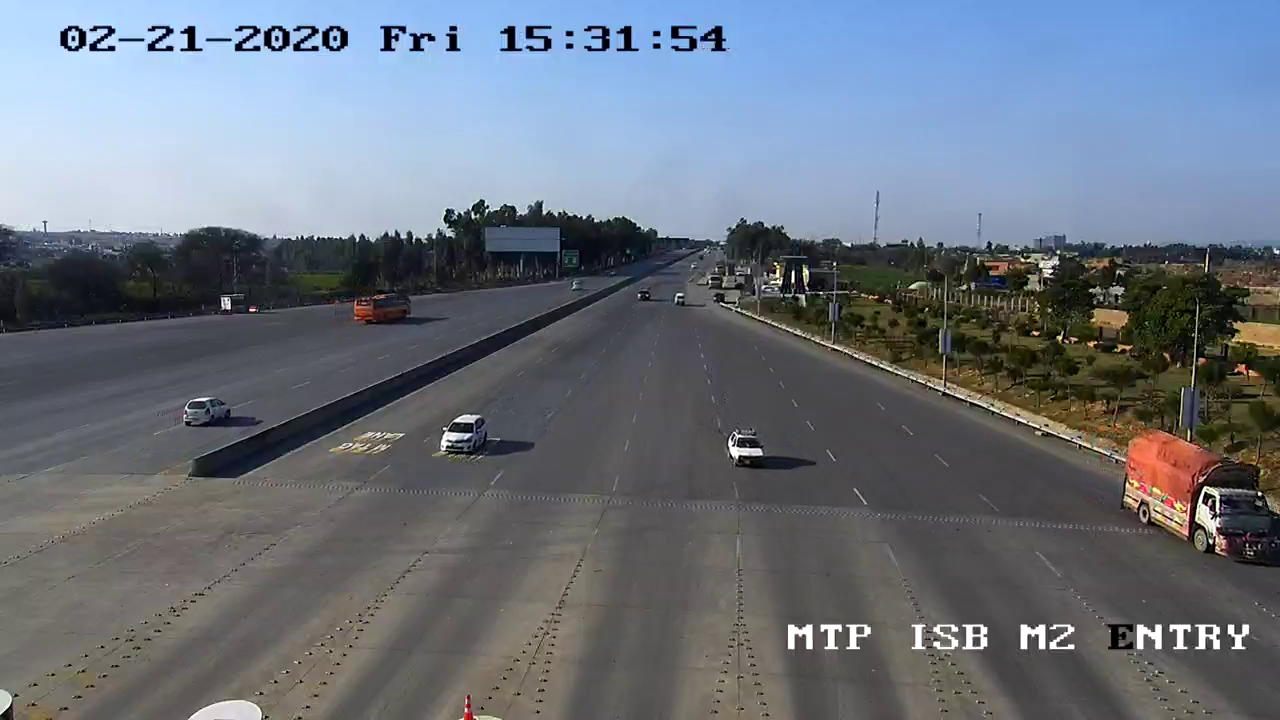f1: (434, 409, 502, 463), (715, 424, 773, 479)
f2: (1109, 424, 1280, 574)
